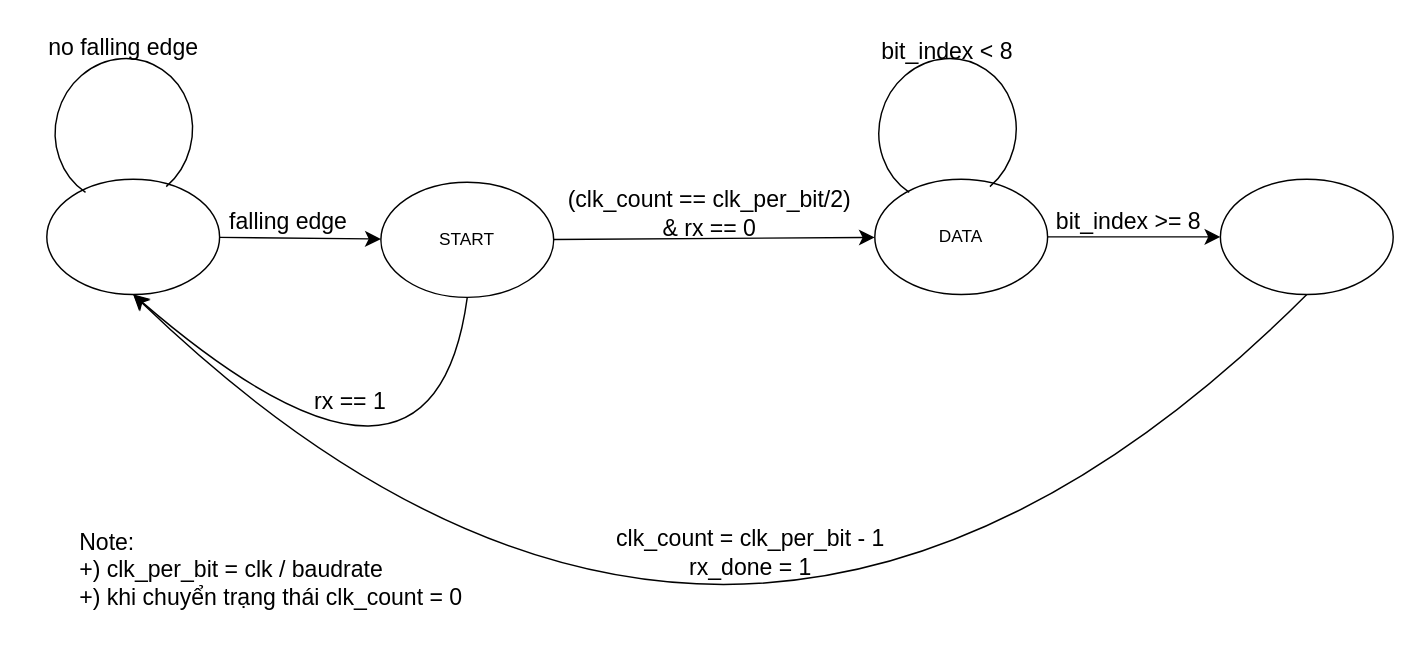
Image size: 1418x655. Some labels were removed from this diagram. Here are the shapes that lost their labels. From the top down, the box of each, then its label:
(45, 178, 220, 294): IDLE (rx_done = 0)
(1219, 178, 1393, 294): STOP
